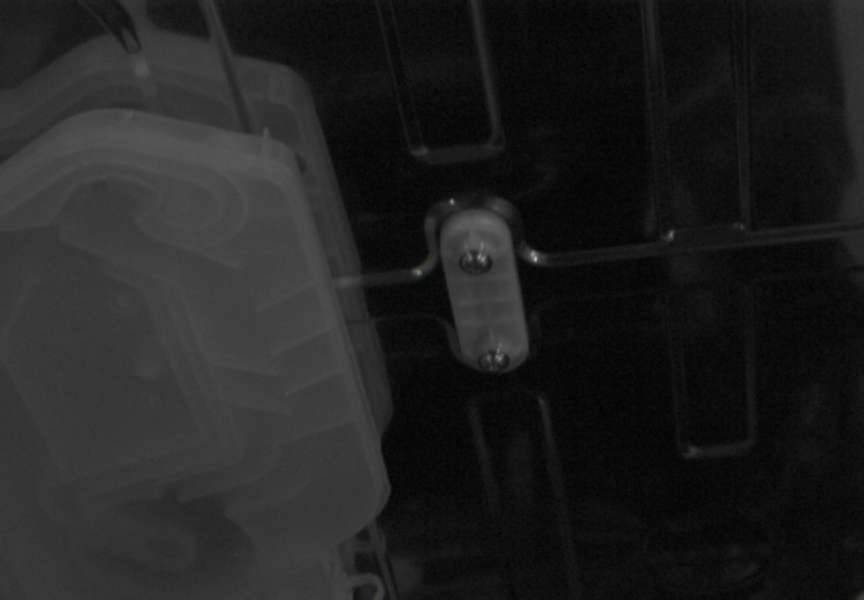screw: (459, 249, 493, 275), (478, 348, 510, 373)
